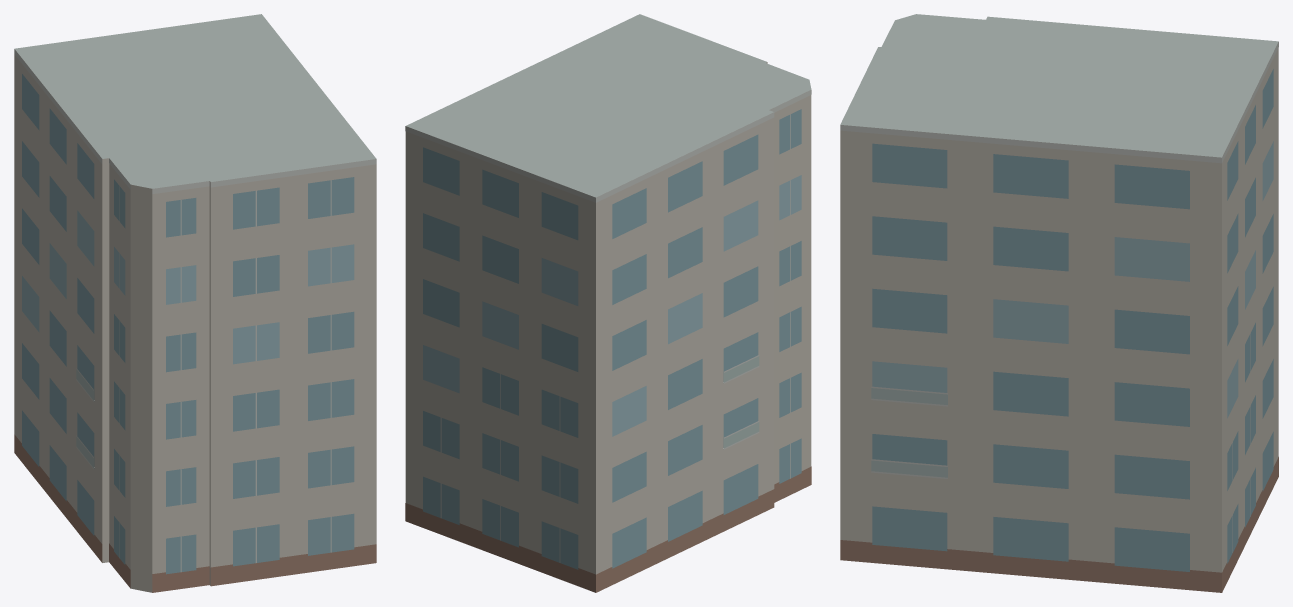
File: survey-upis-32706192.glb
The picture shows the model from 3 angles, left to right: view 1: azimuth 30°, elevation 25°; view 2: azimuth 150°, elevation 25°; view 3: azimuth 270°, elevation 25°; orthographic projection. The views are drawn at different scales.
Parts seen in each view (by area): view 1: survey-upis-32706192.tmp; view 2: survey-upis-32706192.tmp; view 3: survey-upis-32706192.tmp.
Boxes of the visible parts, x1=… form: survey-upis-32706192.tmp: x1=14, y1=14, x2=376, y2=592; survey-upis-32706192.tmp: x1=405, y1=14, x2=811, y2=592; survey-upis-32706192.tmp: x1=840, y1=14, x2=1278, y2=592.
Size of the model in its own units: 13.02 by 18.4 by 16.81.
